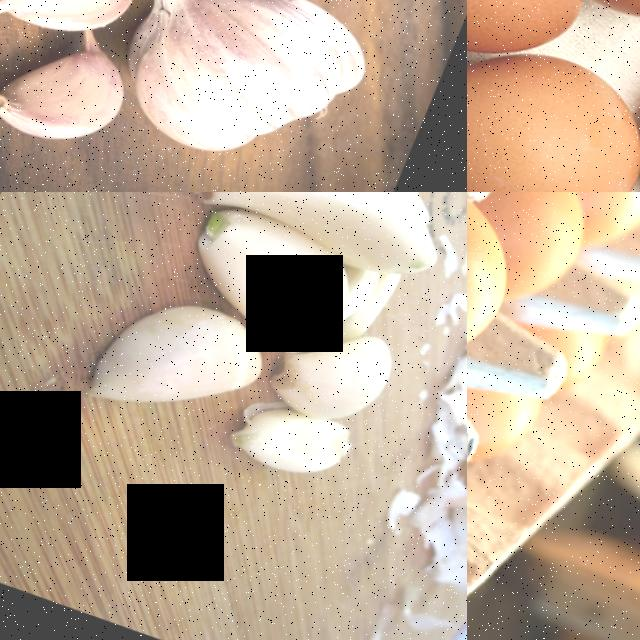egg_: (467, 17, 640, 192), (467, 0, 607, 84), (467, 192, 543, 312)
garlic: (115, 0, 395, 192), (170, 200, 374, 358), (86, 282, 281, 445), (187, 192, 467, 282), (0, 22, 149, 157), (276, 310, 414, 436), (233, 396, 370, 490), (0, 0, 156, 52)
